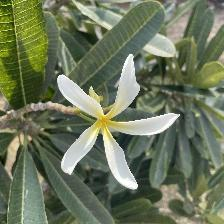champaka: (54, 52, 183, 193)
